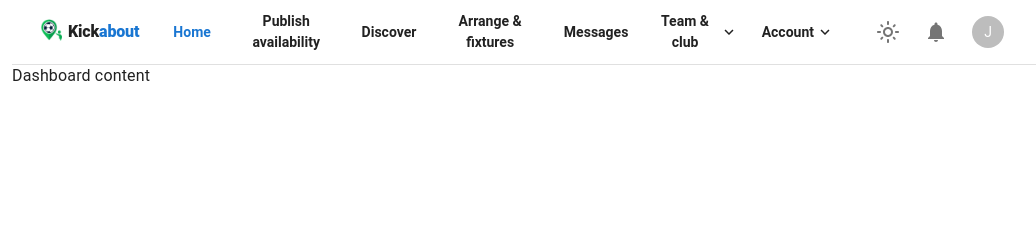
Test: AppShell › enables team-scoped links and exposes Team profile / Club & members / Venues / Verification via the Team & club menu once a team is active
This screenshot has width=1036, height=249.
Click the button "Team & club".
click(695, 32)  # box left=642, top=5, right=748, bottom=59
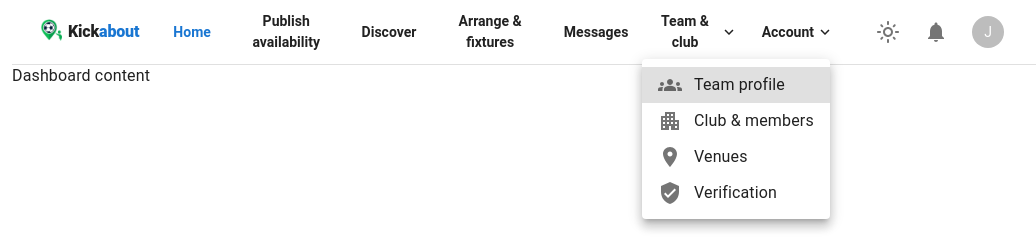
Expected: the menu item "Team profile" is shown, left=642, top=67, right=830, bottom=103
Expected: the menu item "Club & members" is shown, left=658, top=109, right=814, bottom=133
Expected: the menu item "Venues" is shown, left=658, top=145, right=748, bottom=169
